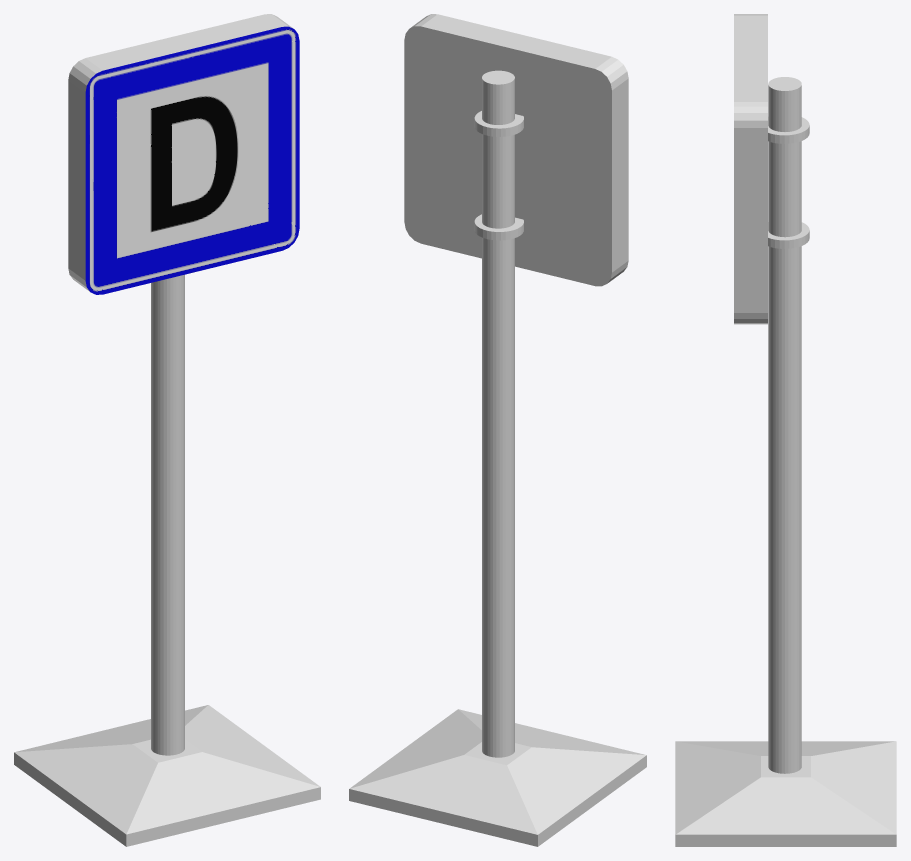
Rendered from durak.dae.
3 renders of one model, left to right at view 1: azimuth 30°, elevation 25°; view 2: azimuth 150°, elevation 25°; view 3: azimuth 270°, elevation 25°, orthographic. The views are drawn at different scales.
Visible parts, largest first — view 1: Plane; view 2: Plane; view 3: Plane.
Part boxes in pixels (x1,y1,x2,y2): Plane: [14, 14, 320, 846]; Plane: [349, 14, 646, 846]; Plane: [675, 14, 896, 846].
Bounding box in the file's own units: 0.823 × 0.7483 × 2.77.
3 materials, 1 textured.
